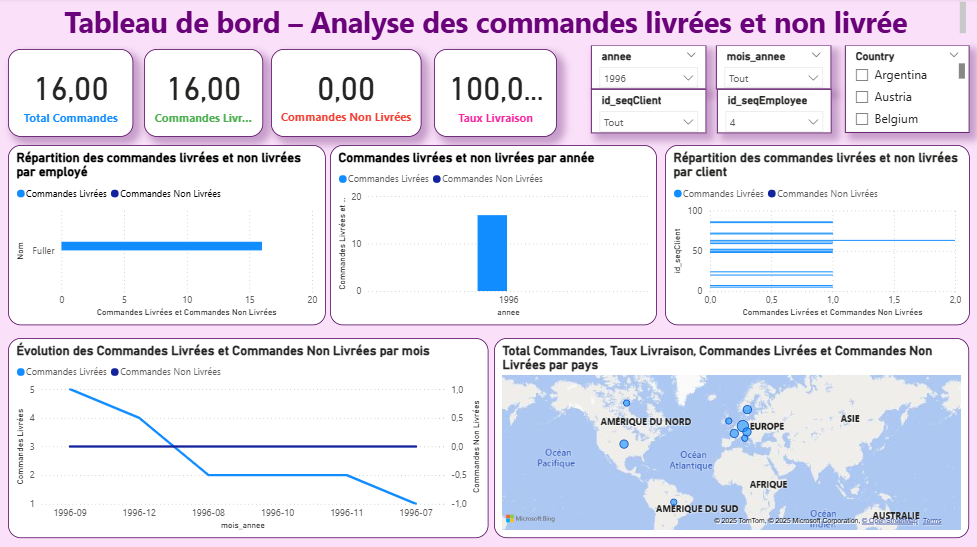

This screenshot's page, from the dashboard's own definition file:
{"tool":"powerbi","page":{"name":"Dashboard_biproject","canvas":[1280,720],"ordinal":0},"visuals":[{"type":"card","fields":{"Values":["TF_Commande.Total Commandes"]},"box":[11.5,66.2,164.2,115.2],"z":0},{"type":"card","fields":{"Values":["TF_Commande.Commandes Livrées"]},"box":[185.8,66.1,159.7,115.6],"z":1000},{"type":"card","fields":{"Values":["TF_Commande.Commandes Non Livrées"]},"box":[356.7,66.7,196.7,115],"z":2000},{"type":"card","fields":{"Values":["TF_Commande.Taux Livraison"]},"box":[568.4,65.8,169.5,115.4],"z":3000},{"type":"slicer","fields":{"Values":["Dim_Temps.annee"]},"box":[774.7,61.9,151.2,57.6],"z":4000},{"type":"slicer","fields":{"Values":["Dim_Temps.mois_annee"]},"box":[938.9,61.9,151.2,57.6],"z":5000},{"type":"slicer","fields":{"Values":["Dim_Client.Country"]},"box":[1107.4,61.9,162.7,115.2],"z":6000},{"type":"lineChart","title":"Évolution des Commandes Livrées et Commandes Non Livrées par mois","fields":{"Category":["Dim_Temps.mois_annee"],"Y":["TF_Commande.Commandes Livrées"],"Y2":["TF_Commande.Commandes Non Livrées"]},"box":[11.5,445,629.3,262.1],"z":7000},{"type":"clusteredBarChart","title":"Répartition des commandes livrées et non livrées par employé","fields":{"Category":["Dim_Employee.Nom"],"Y":["TF_Commande.Commandes Livrées","TF_Commande.Commandes Non Livrées"]},"box":[11.5,193,416.2,236.2],"z":8000},{"type":"clusteredColumnChart","title":"Commandes livrées et non livrées par année","fields":{"Category":["Dim_Temps.annee"],"Y":["TF_Commande.Commandes Livrées","TF_Commande.Commandes Non Livrées"]},"box":[433.4,193,427.7,236.2],"z":9000},{"type":"map","title":"Total Commandes, Taux Livraison, Commandes Livrées et Commandes Non Livrées par pays","fields":{"Category":["Dim_Client.Country"],"Size":["TF_Commande.Total Commandes"]},"box":[648,445,622.1,262.1],"z":10000},{"type":"slicer","fields":{"Values":["TF_Commande.id_seqClient"]},"box":[774.7,119.5,151.2,57.6],"z":11000},{"type":"slicer","fields":{"Values":["TF_Commande.id_seqEmployee"]},"box":[940.3,119.5,149.8,57.6],"z":12000},{"type":"barChart","title":"Répartition des commandes livrées et non livrées par client ","fields":{"Category":["Dim_Client.id_seqClient"],"Y":["TF_Commande.Commandes Livrées","TF_Commande.Commandes Non Livrées"]},"box":[871.2,193,398.9,236.2],"z":13000},{"type":"textbox","box":[11.5,0,1258.6,61.9],"z":14000}]}

Visuals, with their boxes in screenshot pixels (x1, y1, x2, y2), scaled from the page's 1280x720 canvas onto the 977x547 screenshot:
card - TF_Commande.Total Commandes: <region>9, 50, 134, 138</region>
card - TF_Commande.Commandes Livrées: <region>142, 50, 264, 138</region>
card - TF_Commande.Commandes Non Livrées: <region>272, 51, 422, 138</region>
card - TF_Commande.Taux Livraison: <region>434, 50, 563, 138</region>
slicer - Dim_Temps.annee: <region>591, 47, 707, 91</region>
slicer - Dim_Temps.mois_annee: <region>717, 47, 832, 91</region>
slicer - Dim_Client.Country: <region>845, 47, 969, 135</region>
"Évolution des Commandes Livrées et Commandes Non Livrées par mois" lineChart: <region>9, 338, 489, 537</region>
"Répartition des commandes livrées et non livrées par employé" clusteredBarChart: <region>9, 147, 326, 326</region>
"Commandes livrées et non livrées par année" clusteredColumnChart: <region>331, 147, 657, 326</region>
"Total Commandes, Taux Livraison, Commandes Livrées et Commandes Non Livrées par pays" map: <region>495, 338, 969, 537</region>
slicer - TF_Commande.id_seqClient: <region>591, 91, 707, 135</region>
slicer - TF_Commande.id_seqEmployee: <region>718, 91, 832, 135</region>
"Répartition des commandes livrées et non livrées par client " barChart: <region>665, 147, 969, 326</region>
textbox: <region>9, 0, 969, 47</region>
